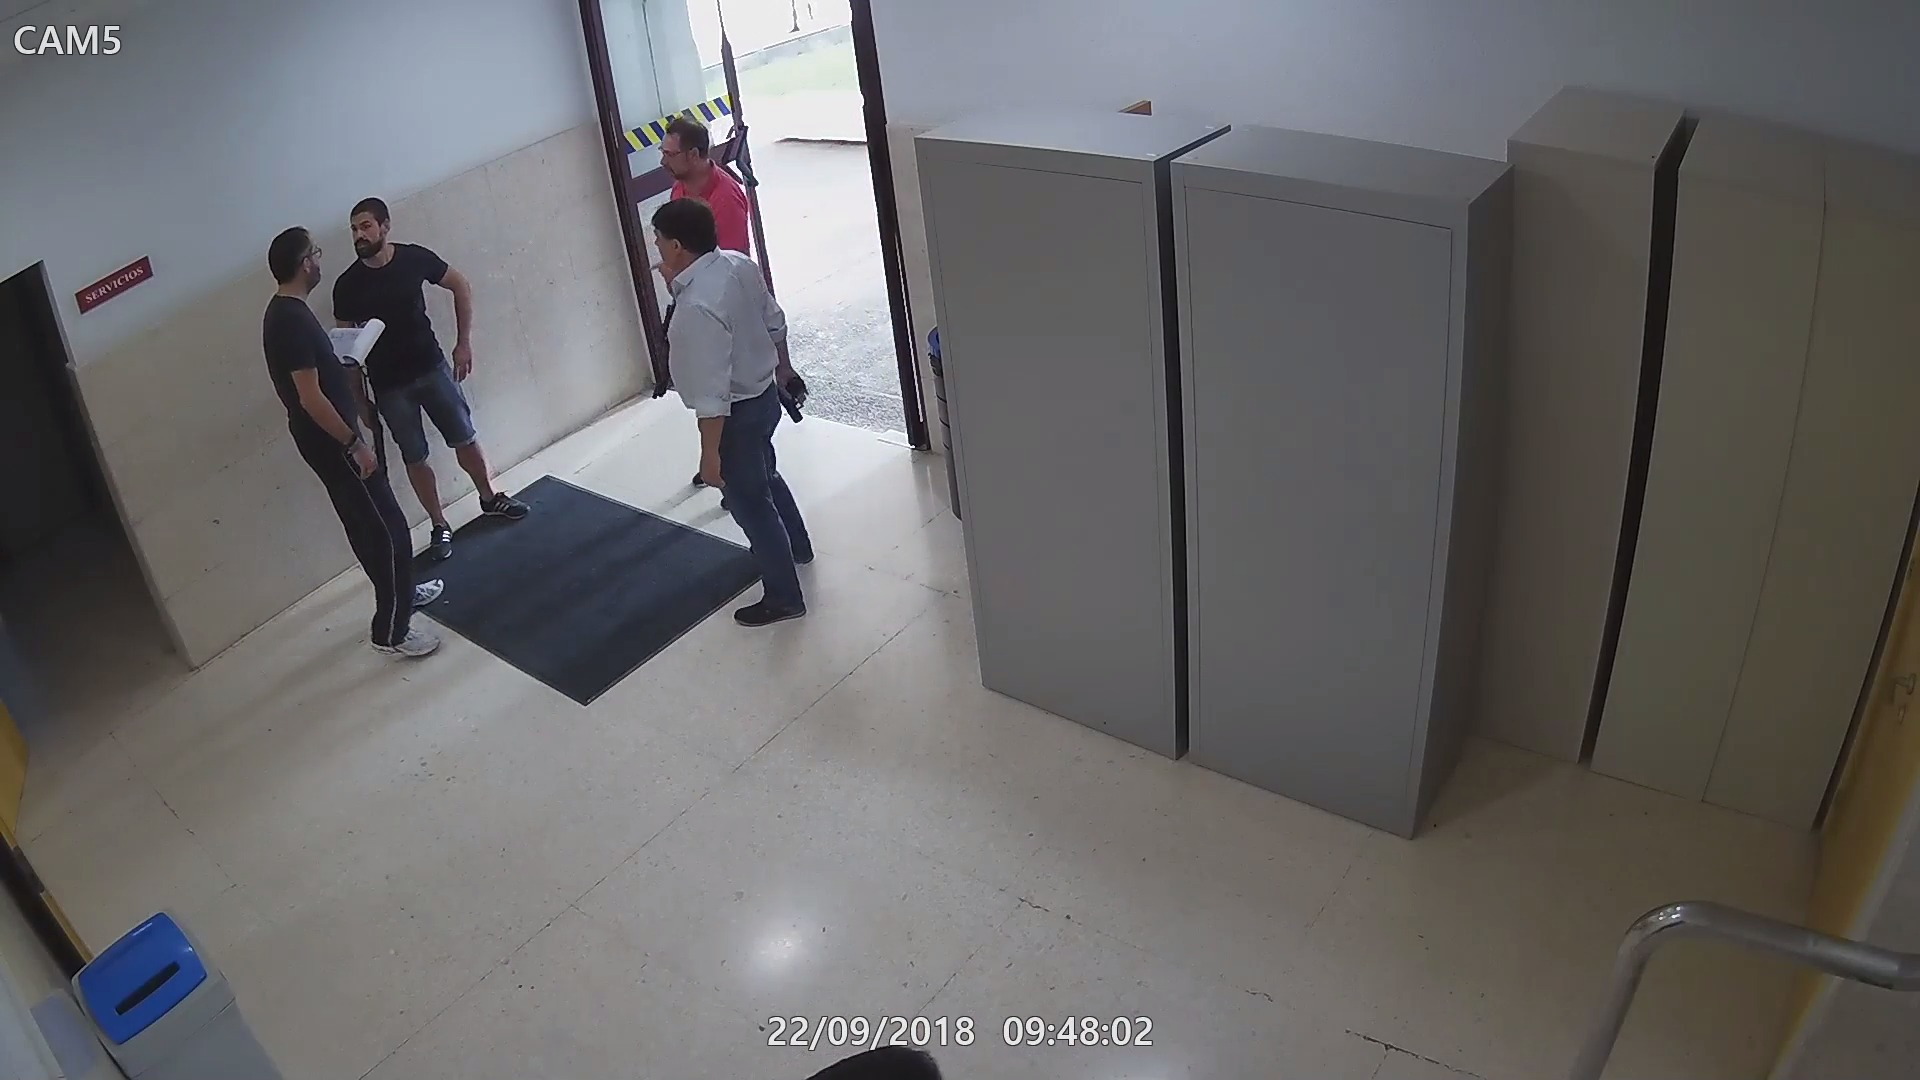Handgun: (777, 367, 815, 425)
Short_rifle: (649, 301, 680, 396), (360, 392, 390, 483)
